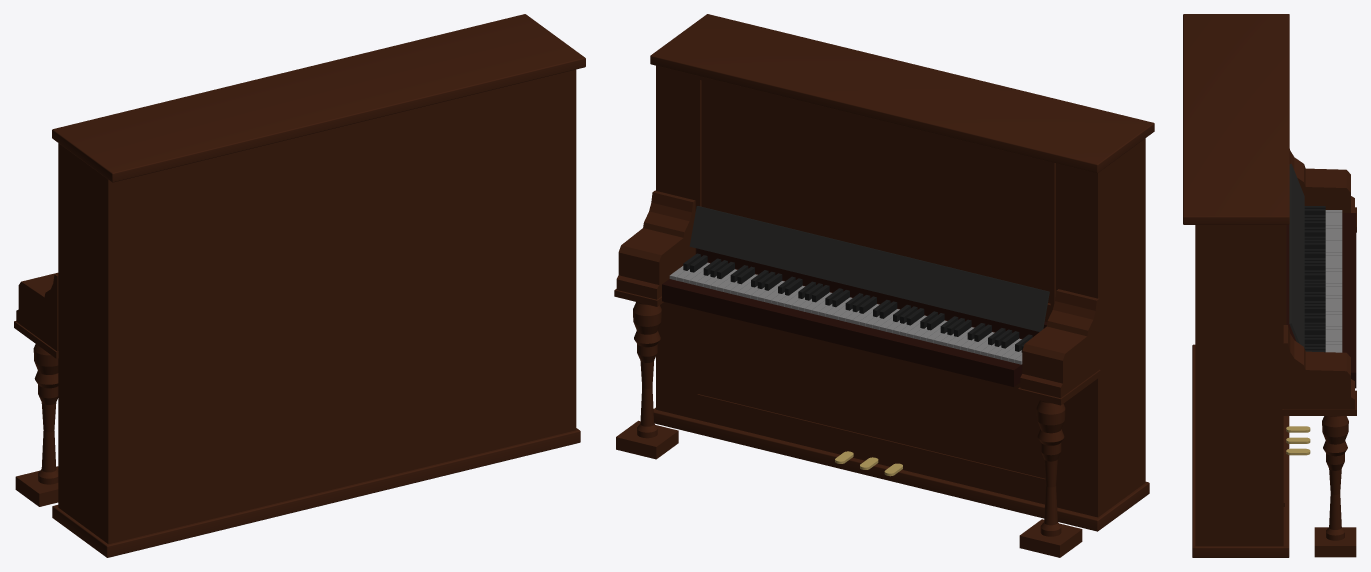
3 views of the same model, side by side, from view 1: azimuth 30°, elevation 25°; view 2: azimuth 150°, elevation 25°; view 3: azimuth 270°, elevation 25° (orthographic). The views are drawn at different scales.
Visible parts, largest first — view 1: case, foot, cheek; view 2: case, panel, fallboard, keybed, cheek, cheek.001, foot, foot.001, backrail, lower_panel; view 3: case, cheek.001, foot.001, fallboard, keybed, cheek, backrail, panel.
Boxes of the visible parts, x1=… form: case: x1=52, y1=14, x2=585, y2=557; foot: x1=15, y1=344, x2=58, y2=506; cheek: x1=14, y1=272, x2=58, y2=358; case: x1=650, y1=14, x2=1154, y2=531; panel: x1=696, y1=75, x2=1055, y2=309; fallboard: x1=689, y1=206, x2=1049, y2=331; keybed: x1=662, y1=262, x2=1022, y2=386; cheek: x1=1018, y1=289, x2=1100, y2=405; cheek.001: x1=614, y1=190, x2=695, y2=306; foot: x1=1019, y1=400, x2=1082, y2=557; foot.001: x1=616, y1=302, x2=678, y2=459; backrail: x1=696, y1=248, x2=1047, y2=338; lower_panel: x1=697, y1=394, x2=1045, y2=483; case: x1=1183, y1=14, x2=1289, y2=557; cheek.001: x1=1282, y1=325, x2=1356, y2=415; foot.001: x1=1314, y1=416, x2=1356, y2=557; fallboard: x1=1289, y1=163, x2=1304, y2=347; keybed: x1=1292, y1=213, x2=1356, y2=388; cheek: x1=1289, y1=149, x2=1356, y2=232; backrail: x1=1286, y1=225, x2=1292, y2=336; panel: x1=1283, y1=225, x2=1286, y2=324.
Size of the model in its own units: 1.5 by 1.18 by 0.543.
